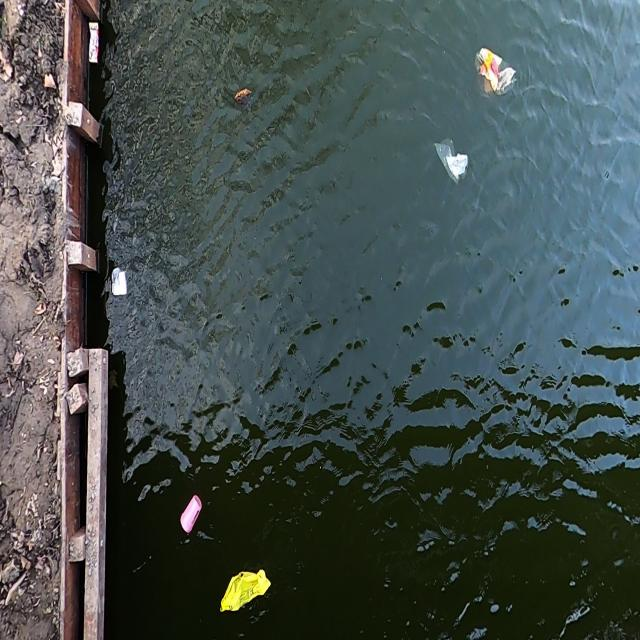Autre plastique: (174, 494, 207, 548), (84, 20, 101, 70)
Sac plastique: (216, 563, 275, 625), (473, 37, 519, 104), (431, 126, 475, 188), (107, 262, 131, 302)
